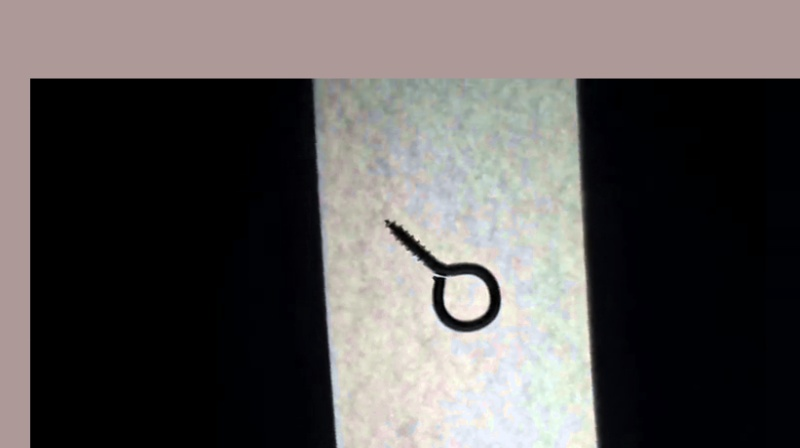O001: (376, 217, 507, 334)
